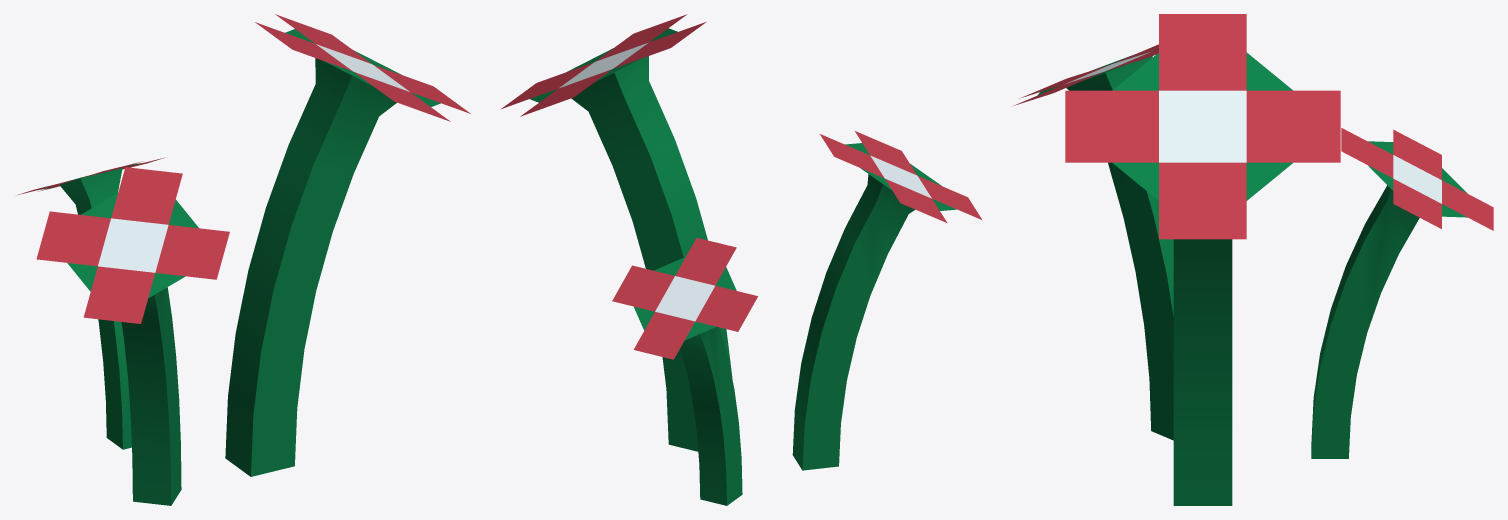
The model's file is flowers.glb.
The picture shows the model from 3 angles, left to right: view 1: azimuth 30°, elevation 25°; view 2: azimuth 150°, elevation 25°; view 3: azimuth 270°, elevation 25°; orthographic projection. The views are drawn at different scales.
Parts seen in each view (by area): view 1: flowers; view 2: flowers; view 3: flowers.
Part boxes in pixels (bbox=[...]): flowers: bbox=[18, 14, 470, 505]; flowers: bbox=[501, 14, 982, 505]; flowers: bbox=[1012, 14, 1493, 505].
Bounding box in the file's own units: 0.4975 × 0.464 × 0.4168.
